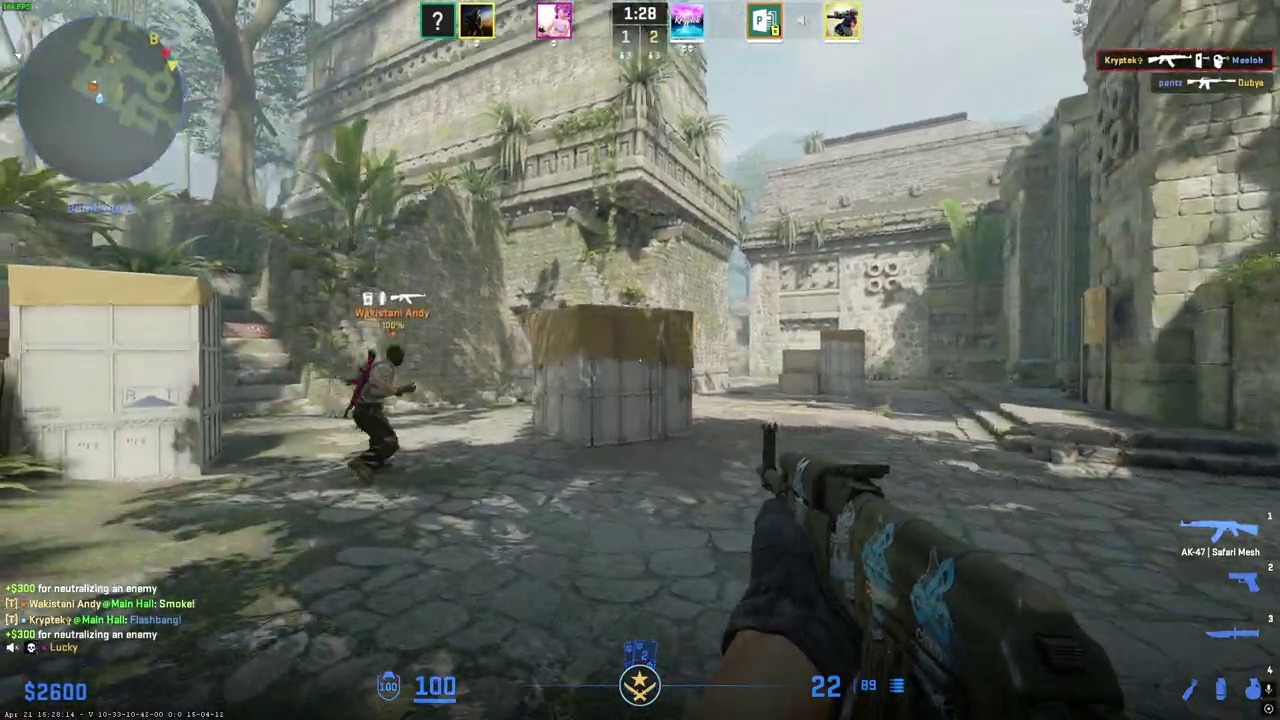Terrorist: (344, 344, 409, 478)
